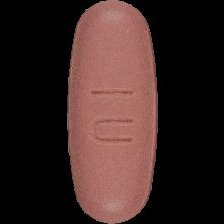50090-1250: (0, 0, 224, 224)
